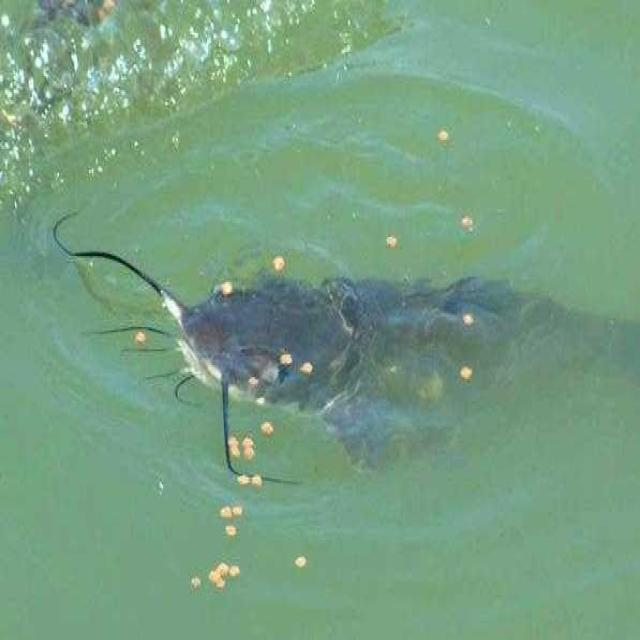Ponds: (3, 1, 640, 639)
